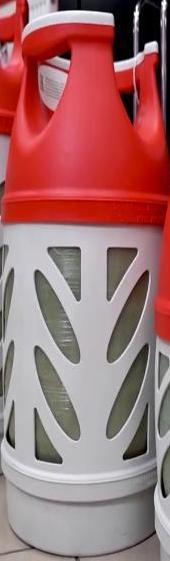cylinder: (0, 1, 170, 561)
